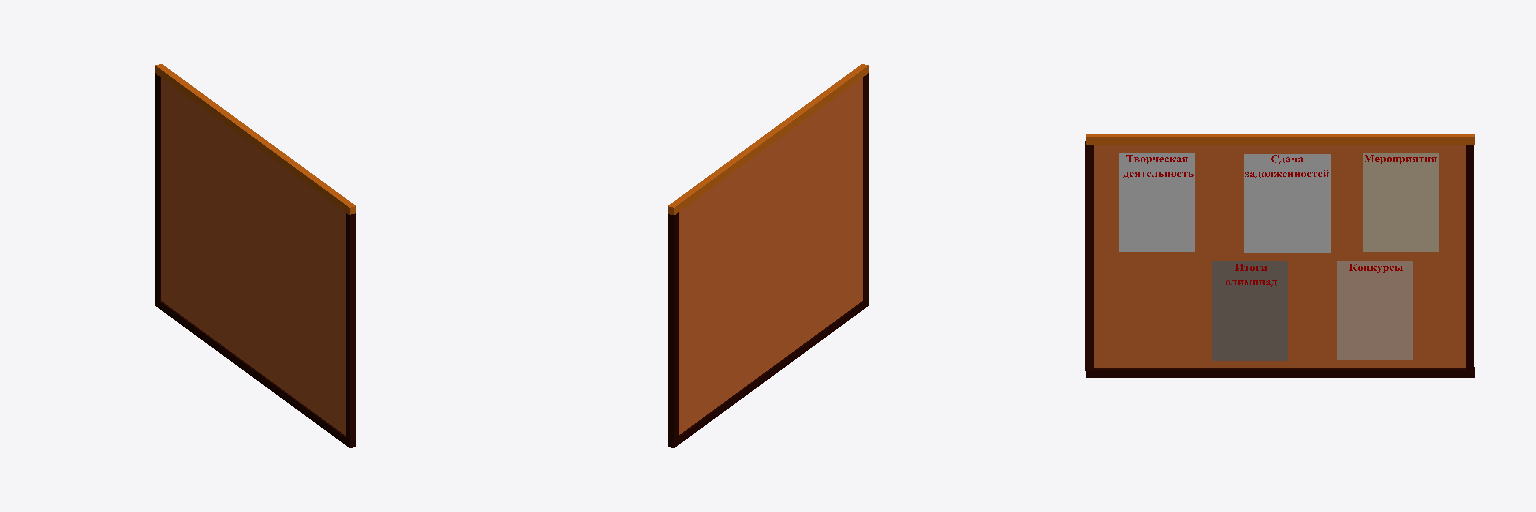
File: doska.obj
The picture shows the model from 3 angles: view 1: azimuth 30°, elevation 25°; view 2: azimuth 150°, elevation 25°; view 3: azimuth 270°, elevation 25°; orthographic projection.
Visible parts, largest first — view 1: Плоскость, Куб, Куб.002, Куб.001, Куб.003; view 2: Плоскость, Куб, Куб.003, Куб.001, Куб.002; view 3: Плоскость, Плоскость.002, Плоскость.005, Плоскость.004, Плоскость.003, Плоскость.001, Куб, Куб.001, Куб.002, Куб.003.
Boxes of the visible parts, <box> form: Плоскость: <box>161,78,345,435</box>; Куб: <box>155,64,355,214</box>; Куб.002: <box>346,213,355,440</box>; Куб.001: <box>155,298,355,447</box>; Куб.003: <box>155,73,160,300</box>; Плоскость: <box>679,78,862,434</box>; Куб: <box>668,64,868,214</box>; Куб.003: <box>668,212,678,439</box>; Куб.001: <box>668,298,868,447</box>; Куб.002: <box>863,73,868,300</box>; Плоскость: <box>1094,145,1465,367</box>; Плоскость.002: <box>1244,154,1330,252</box>; Плоскость.005: <box>1212,261,1287,360</box>; Плоскость.004: <box>1337,261,1412,359</box>; Плоскость.003: <box>1363,153,1438,251</box>; Плоскость.001: <box>1119,153,1194,251</box>; Куб: <box>1086,134,1474,144</box>; Куб.001: <box>1086,367,1474,377</box>; Куб.002: <box>1085,141,1093,370</box>; Куб.003: <box>1466,145,1473,369</box>.
Bounding box in the file's own units: 0.1033 × 3.45 × 5.05.